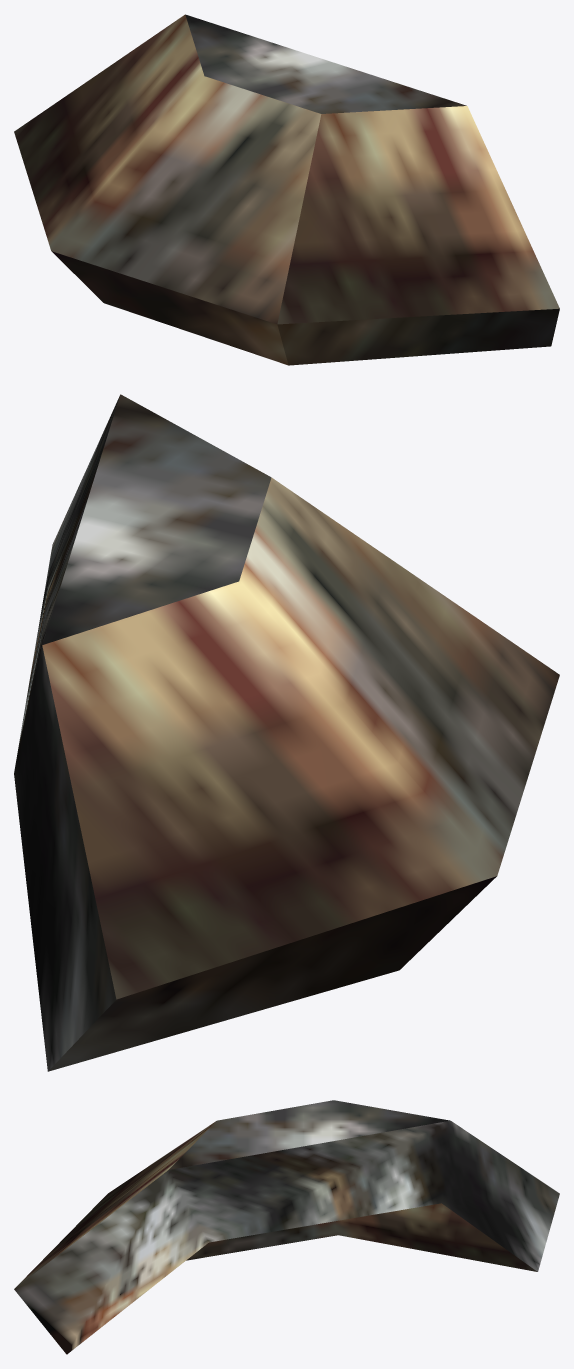
File: USA - Base Infrastructure - Power Plant - Damage State 28 - ABPWRPLANT_d28.glb
3 views of the same model, one above another, from view 1: azimuth 30°, elevation 25°; view 2: azimuth 150°, elevation 25°; view 3: azimuth 270°, elevation 25° (orthographic). The views are drawn at different scales.
Parts seen in each view (by area): view 1: ABPWRPLANT_D28; view 2: ABPWRPLANT_D28; view 3: ABPWRPLANT_D28.
Boxes of the visible parts, <box> form: ABPWRPLANT_D28: <box>14,14,559,365</box>; ABPWRPLANT_D28: <box>14,394,559,1071</box>; ABPWRPLANT_D28: <box>14,1100,559,1354</box>.
Bounding box in the file's own units: 5.5 × 3.13 × 8.79.
Materials: 1 (1 with a texture image).
